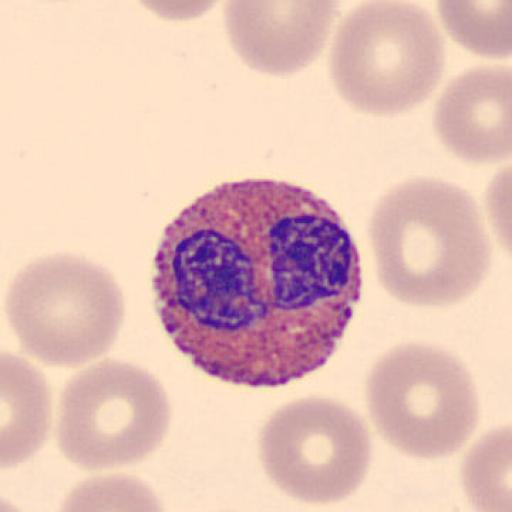RBC: (365, 174, 494, 310), (4, 248, 127, 370), (364, 339, 482, 461), (327, 0, 447, 118), (55, 357, 174, 472), (255, 393, 375, 507), (222, 0, 340, 78), (432, 62, 512, 166), (2, 349, 53, 472), (459, 421, 511, 512), (435, 0, 512, 61), (55, 471, 168, 512), (483, 160, 512, 265), (126, 0, 232, 23)
WBC: (148, 181, 365, 387)
